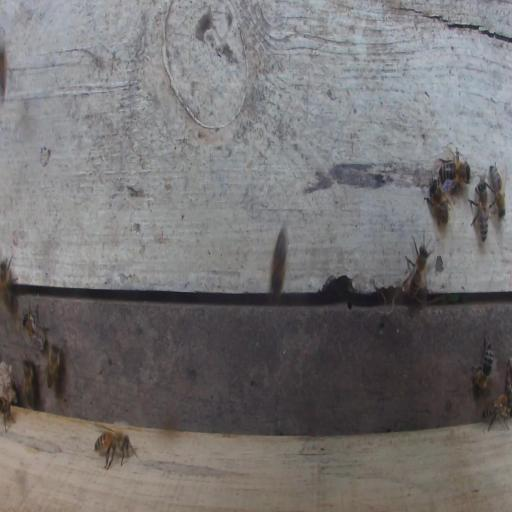nonpollenbee: (399, 224, 435, 306), (94, 428, 137, 470), (468, 173, 490, 244), (470, 336, 493, 393), (270, 225, 287, 302), (425, 177, 451, 225), (22, 304, 47, 352), (438, 148, 471, 184), (482, 392, 511, 432), (1, 253, 18, 310), (490, 162, 505, 219), (22, 356, 36, 410), (46, 341, 61, 390), (0, 394, 15, 432)
